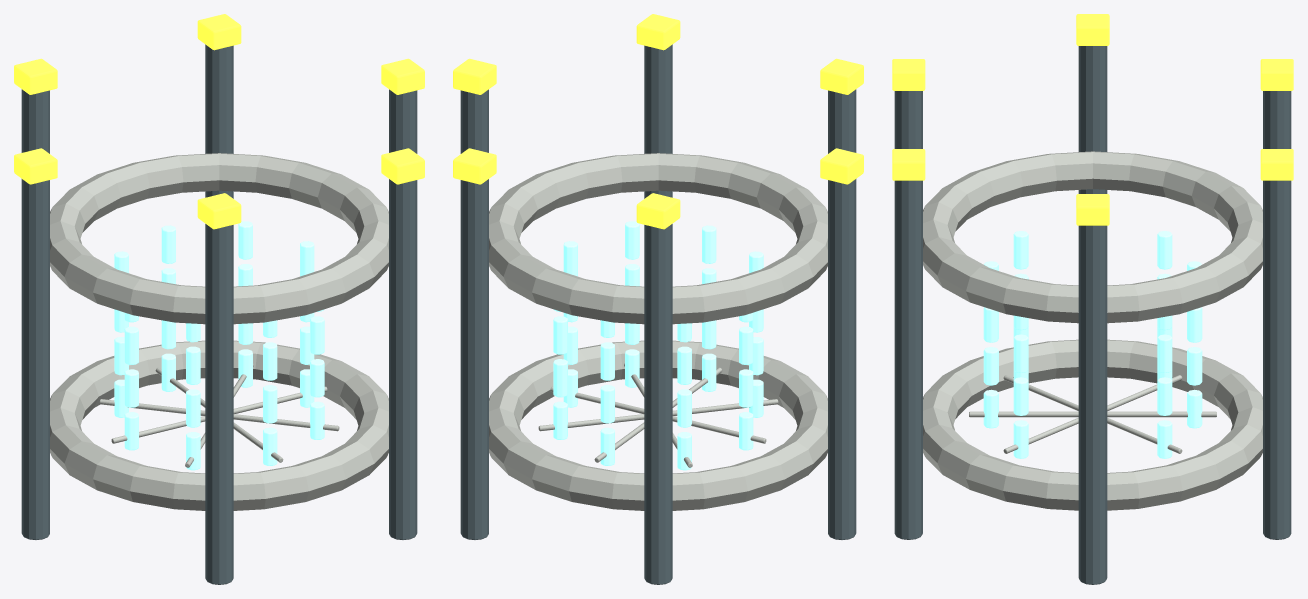
The model's file is micro_reactor_core_d1.glb.
The picture shows the model from 3 angles, left to right: view 1: azimuth 30°, elevation 25°; view 2: azimuth 150°, elevation 25°; view 3: azimuth 270°, elevation 25°; orthographic projection.
Visible parts, largest first — view 1: Core vessel upper.004, Core vessel lower.004, Control rod guide.021, Control rod guide.022, Control rod guide.023, Control rod guide.019, Control rod guide.018, Control rod guide.020, Rod actuator cap.022, Rod actuator cap.019, Rod actuator cap.018, Rod actuator cap.020 (+16 smaller); view 2: Core vessel upper.004, Core vessel lower.004, Control rod guide.020, Control rod guide.021, Control rod guide.019, Control rod guide.023, Control rod guide.018, Control rod guide.022, Rod actuator cap.020, Rod actuator cap.023, Rod actuator cap.018, Rod actuator cap.021 (+16 smaller); view 3: Core vessel upper.004, Core vessel lower.004, Control rod guide.018, Control rod guide.019, Control rod guide.023, Control rod guide.021, Control rod guide.020, Control rod guide.022, Rod actuator cap.018, Rod actuator cap.019, Rod actuator cap.020, Rod actuator cap.021 (+18 smaller).
Boxes of the visible parts, bbox=[...] form: Core vessel upper.004: bbox=[50, 153, 388, 324]; Core vessel lower.004: bbox=[50, 340, 388, 510]; Control rod guide.021: bbox=[21, 179, 49, 539]; Control rod guide.022: bbox=[205, 224, 233, 584]; Control rod guide.023: bbox=[389, 179, 417, 539]; Control rod guide.019: bbox=[205, 44, 233, 198]; Control rod guide.018: bbox=[389, 89, 417, 153]; Control rod guide.020: bbox=[21, 89, 49, 153]; Rod actuator cap.022: bbox=[197, 193, 241, 229]; Rod actuator cap.019: bbox=[197, 14, 241, 50]; Rod actuator cap.018: bbox=[381, 58, 424, 94]; Rod actuator cap.020: bbox=[14, 58, 57, 94]; Core vessel upper.004: bbox=[489, 153, 827, 324]; Core vessel lower.004: bbox=[489, 340, 827, 510]; Control rod guide.020: bbox=[644, 224, 672, 584]; Control rod guide.021: bbox=[828, 179, 856, 539]; Control rod guide.019: bbox=[460, 179, 488, 539]; Control rod guide.023: bbox=[644, 44, 672, 198]; Control rod guide.018: bbox=[460, 89, 488, 153]; Control rod guide.022: bbox=[828, 89, 856, 153]; Rod actuator cap.020: bbox=[636, 193, 680, 229]; Rod actuator cap.023: bbox=[636, 14, 680, 50]; Rod actuator cap.018: bbox=[453, 58, 496, 94]; Rod actuator cap.021: bbox=[820, 148, 863, 184]; Core vessel upper.004: bbox=[923, 151, 1262, 323]; Core vessel lower.004: bbox=[923, 339, 1262, 510]; Control rod guide.018: bbox=[1078, 225, 1107, 584]; Control rod guide.019: bbox=[1263, 180, 1291, 539]; Control rod guide.023: bbox=[894, 180, 922, 539]; Control rod guide.021: bbox=[1078, 46, 1107, 193]; Control rod guide.020: bbox=[1263, 91, 1291, 148]; Control rod guide.022: bbox=[894, 91, 922, 148]; Rod actuator cap.018: bbox=[1076, 194, 1109, 225]; Rod actuator cap.019: bbox=[1260, 149, 1293, 180]; Rod actuator cap.020: bbox=[1260, 59, 1293, 90]; Rod actuator cap.021: bbox=[1076, 14, 1109, 45].
Bounding box in the file's own units: 3.88 × 3.54 × 3.4.
